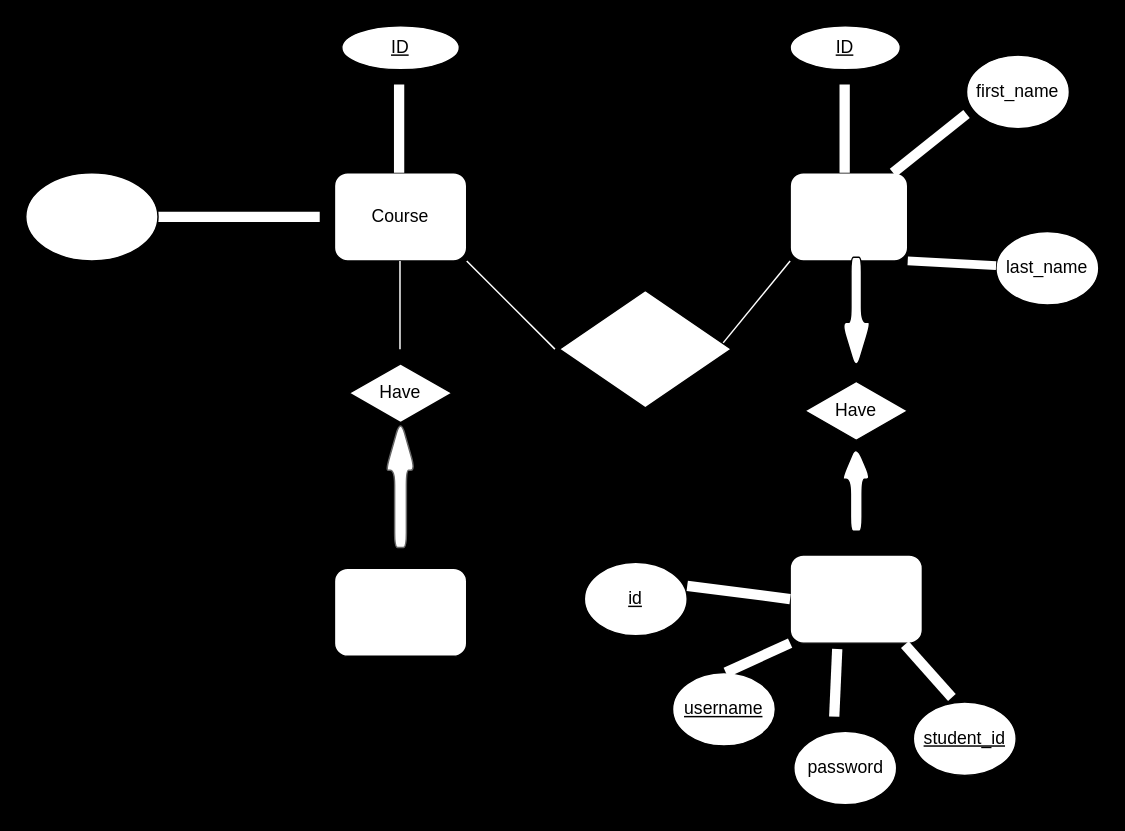
This 1125x831 diagram has some shape labels left out. The centre of each missing label's shape, as x and y in pixels:
"Excercise" goes at (400,611).
"Name" goes at (91,216).
"Student" goes at (848,216).
"Student_Courses" goes at (644,348).
"User Account" goes at (855,598).
